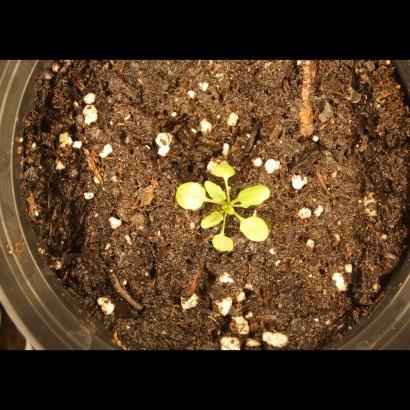leaf: (171, 181, 206, 215), (196, 203, 230, 235), (233, 186, 278, 210), (210, 156, 244, 185), (236, 216, 271, 244), (209, 231, 237, 259), (203, 176, 228, 202)
